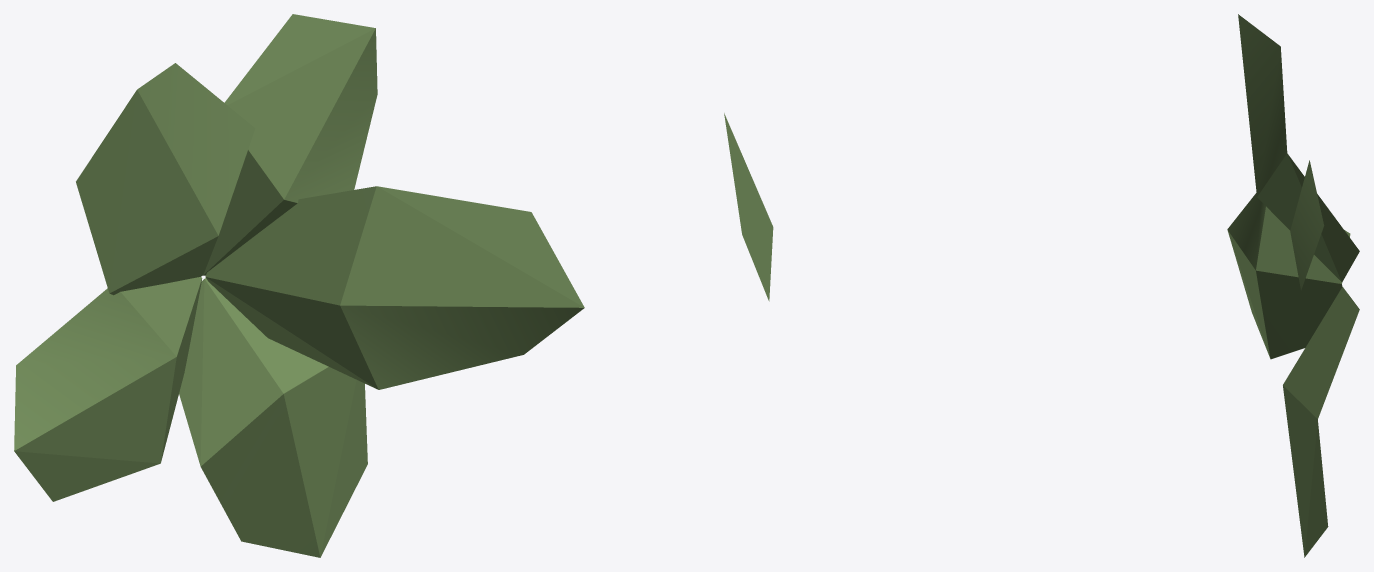
The model's file is plant1.gltf.
3 renders of one model, left to right at view 1: azimuth 30°, elevation 25°; view 2: azimuth 150°, elevation 25°; view 3: azimuth 270°, elevation 25°, orthographic. The views are drawn at different scales.
Parts seen in each view (by area): view 1: Plant_1_1; view 2: Plant_1_1; view 3: Plant_1_1.
Boxes of the visible parts, x1,y1,x2,y2 form: Plant_1_1: (14,14,584,557); Plant_1_1: (724,113,773,301); Plant_1_1: (1227,14,1359,557).
Size of the model in its own units: 1.65 by 1.69 by 0.7461.
